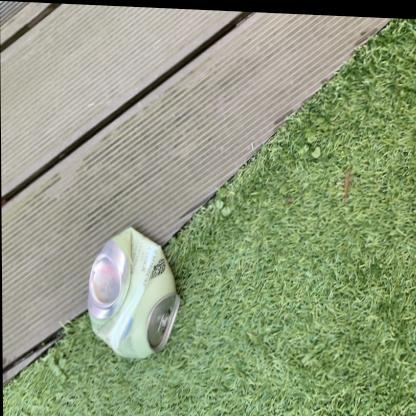trash: (88, 227, 179, 357)
